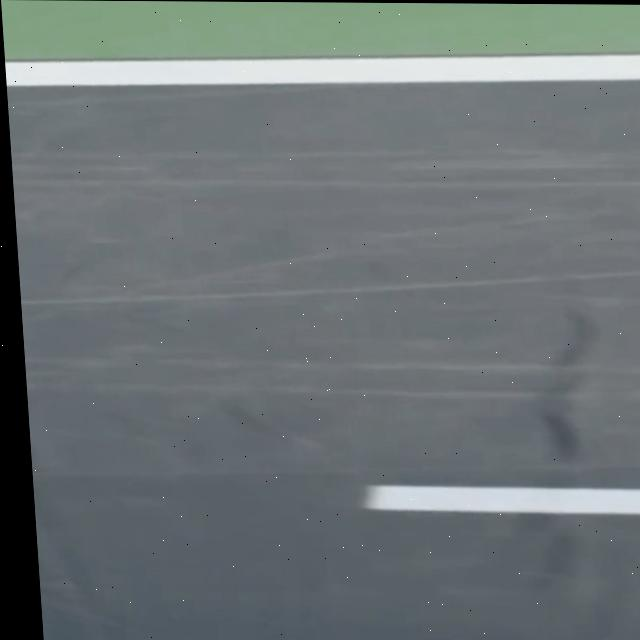center: (364, 486, 640, 515)
right: (4, 55, 640, 87)
